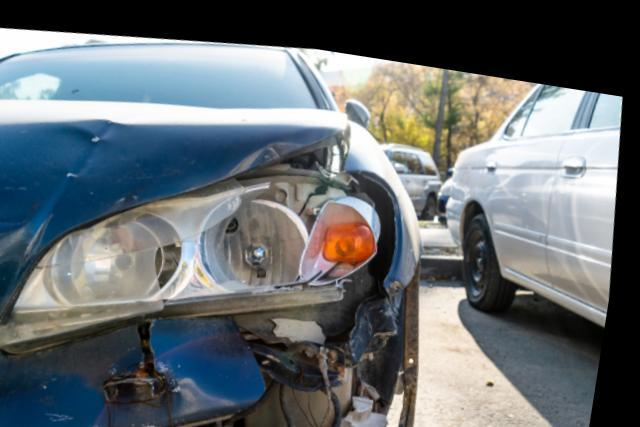crack: (144, 316, 177, 379)
dent: (0, 116, 134, 253)
lamp broken: (13, 120, 388, 347)
no part: (240, 272, 430, 427)
